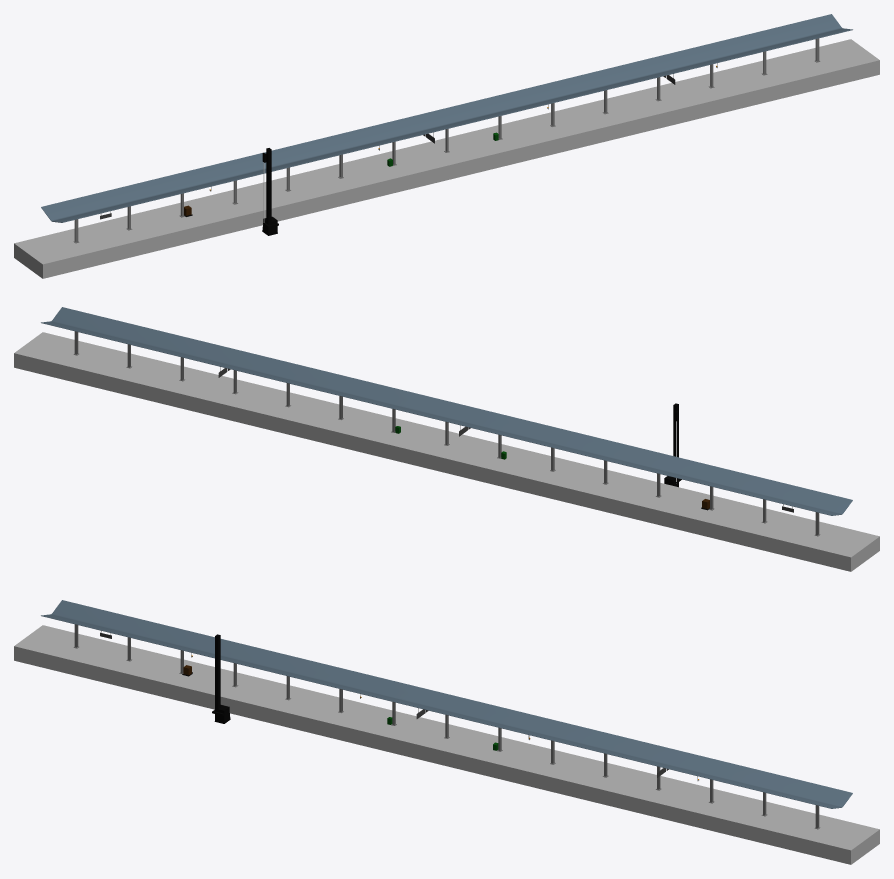
File: Station.fbx
The picture shows the model from 3 angles, top to bottom: view 1: azimuth 30°, elevation 25°; view 2: azimuth 150°, elevation 25°; view 3: azimuth 330°, elevation 25°; orthographic projection.
Visible parts, largest first — view 1: Platform, Shed, Pillars, Electric Pole; view 2: Platform, Shed, Pillars; view 3: Platform, Shed, Pillars, Electric Pole.
Boxes of the visible parts, x1,y1,x2,y2 form: Platform: [14, 39, 879, 278]; Shed: [41, 14, 852, 222]; Pillars: [73, 38, 820, 243]; Electric Pole: [262, 148, 278, 235]; Platform: [14, 332, 879, 571]; Shed: [41, 307, 852, 515]; Pillars: [73, 331, 820, 536]; Platform: [14, 625, 879, 864]; Shed: [41, 600, 852, 808]; Pillars: [73, 624, 820, 829]; Electric Pole: [212, 634, 230, 723].
Bounding box in the file's own units: 18129 × 1773 × 1598.
